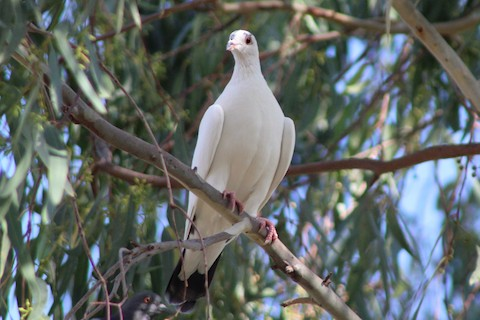pigeon: (154, 28, 303, 311)
